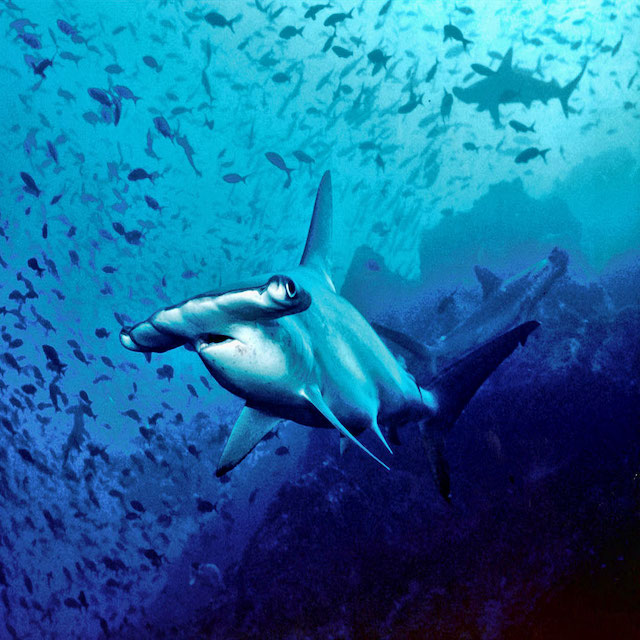hammerhead: (133, 240, 415, 435)
